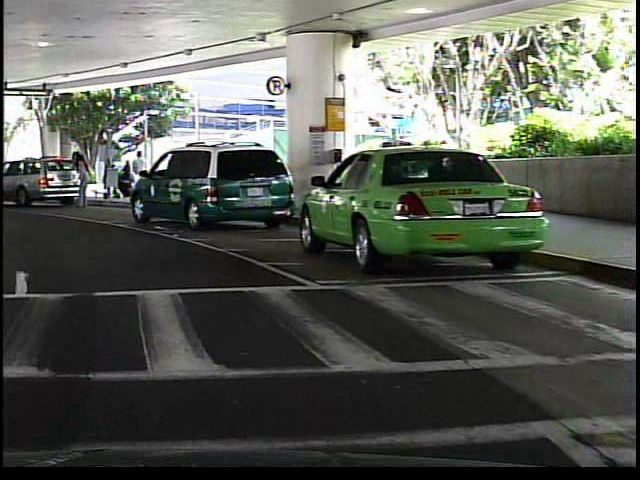person: (70, 150, 89, 208)
